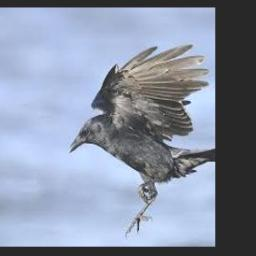Crow: (68, 44, 215, 241)
